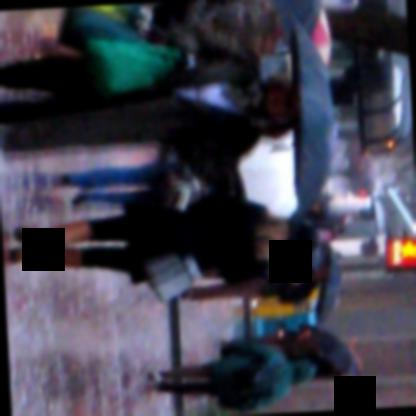backpack: (141, 260, 200, 308), (216, 355, 264, 408)
handbag: (83, 37, 181, 91), (142, 249, 201, 305)
